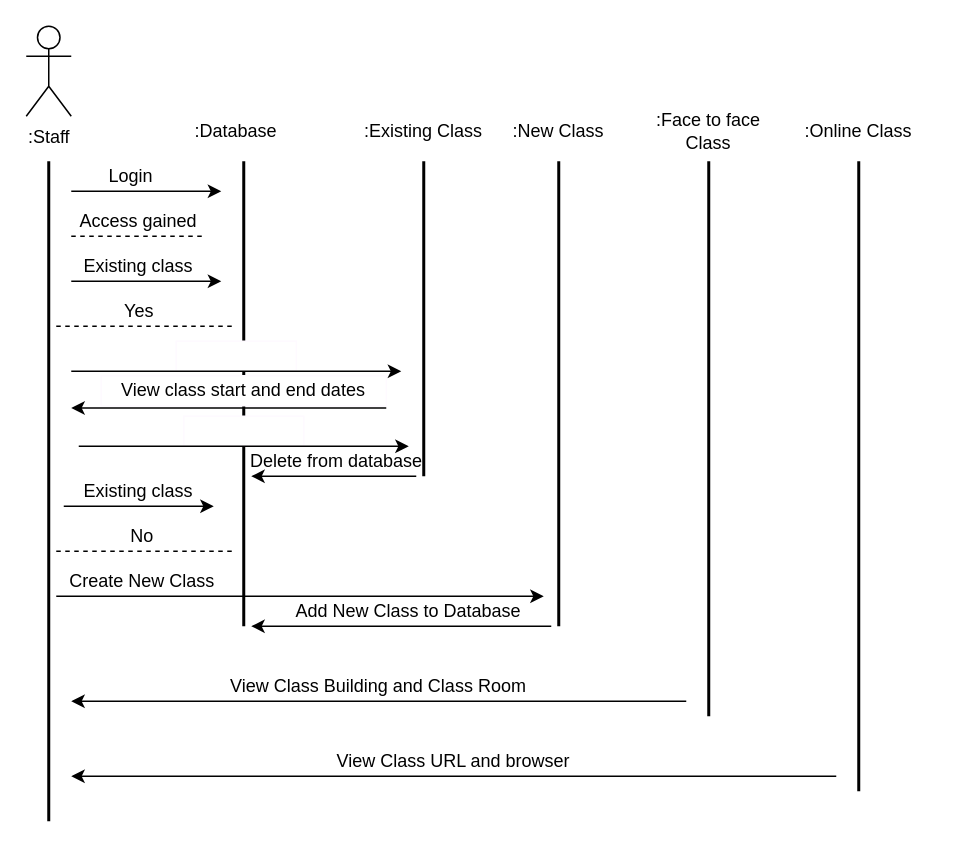
Some shapes in this 953 by 849 pixel diagram are drawn without their labels. The centre of each missing label's shape, as x and y in pixels:
"Delete Class" goes at pixel 243 430.
"Modify class" goes at pixel 235 355.
